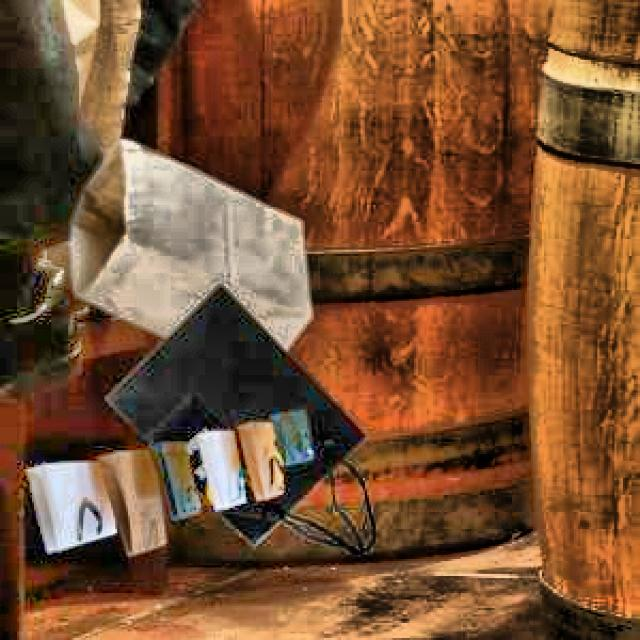Paper-bag: (60, 145, 328, 367), (24, 411, 322, 560)
